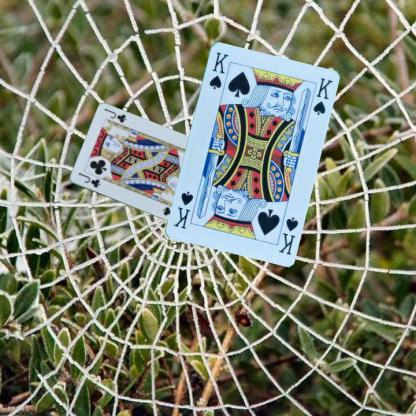Jc: (76, 170, 101, 189)
Ks: (206, 49, 230, 91), (276, 214, 299, 256)
